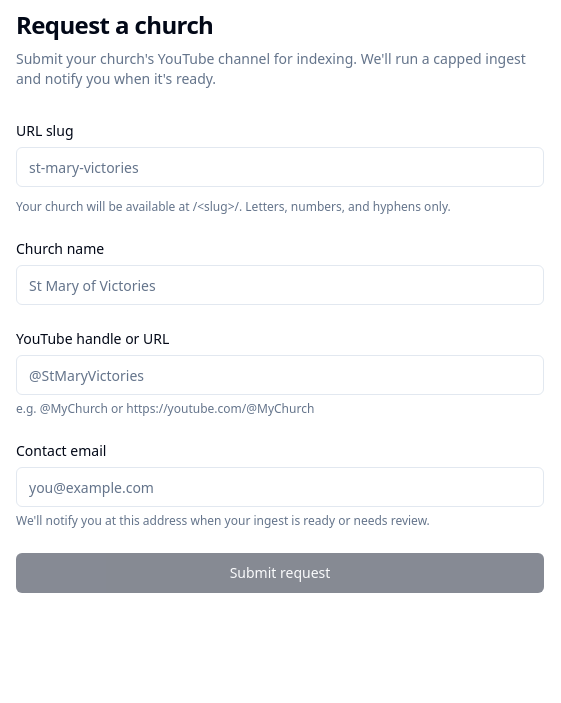
Test: IngestPage › channel preflight callouts › available — shows playlist filter section
Type "@TestChannel" into the field labelled "YouTube handle or URL" at (280, 375), box x1=16 y1=355 x2=544 y2=395
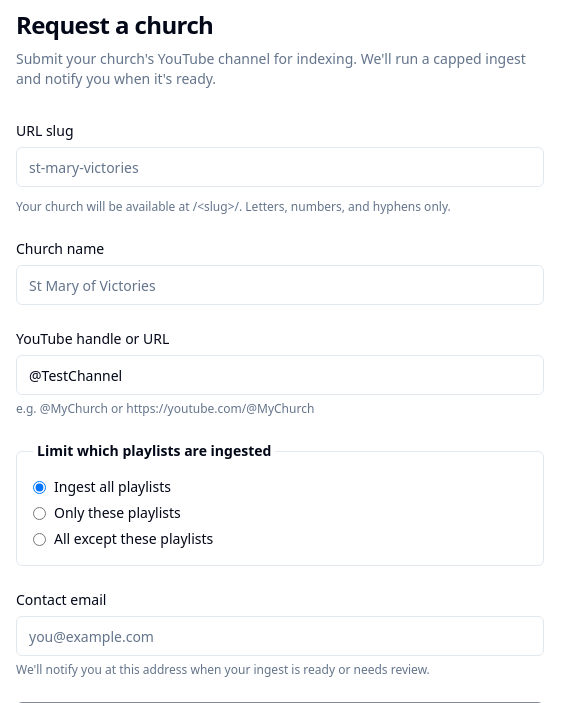
Expected: the text "Limit which playlists are ingested" is shown, x1=33 y1=441 x2=275 y2=461
